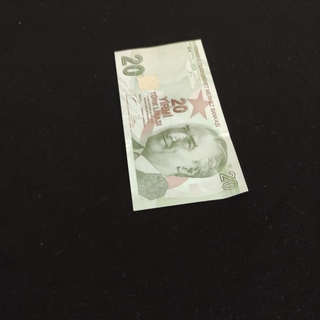20TLFront: (113, 38, 249, 211)
